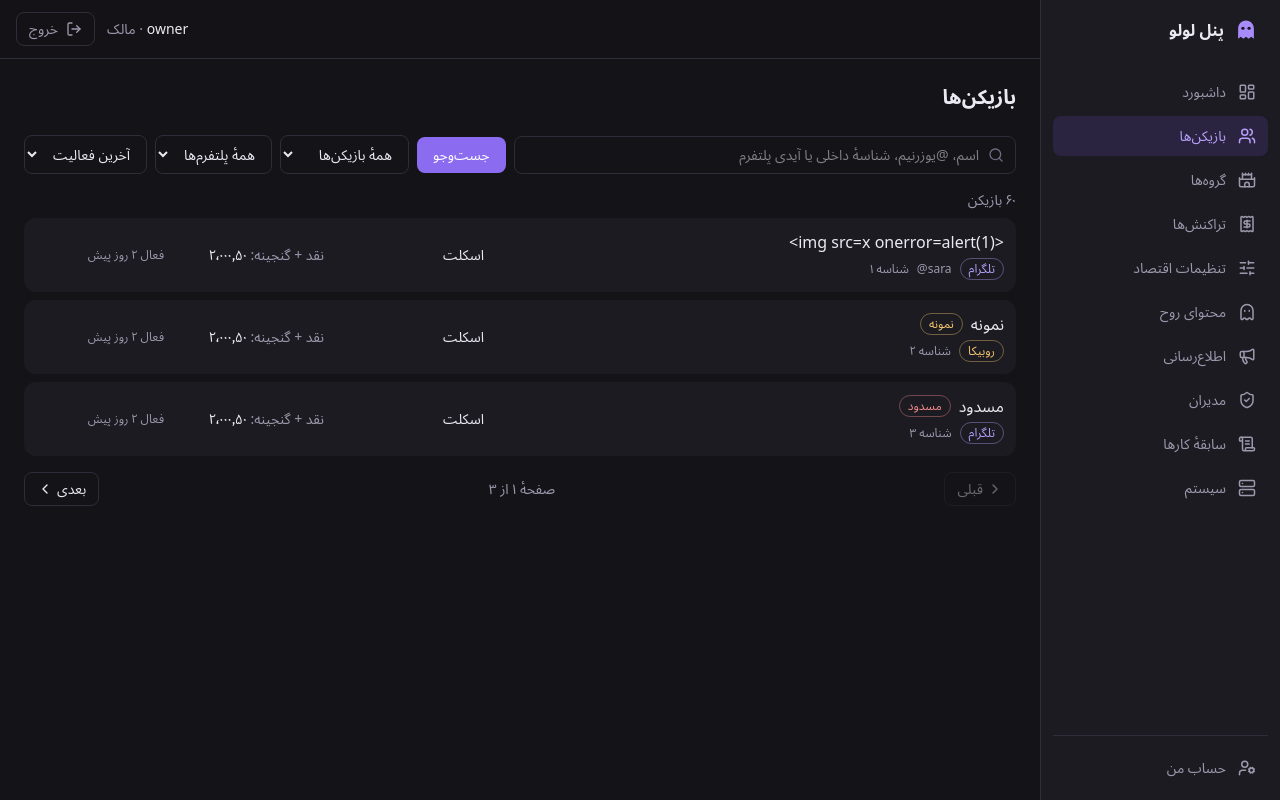
Test: players list › searches from the URL and shows badges, platform and untrusted names as text
Expected: the text "<img src=x onerror=alert(1)>" is shown, [789,230,1004,254]
Expected: the 1st text "نمونه" is shown, [920,313,963,335]
Click the button "بعدی": (62, 489) [24,472,99,506]
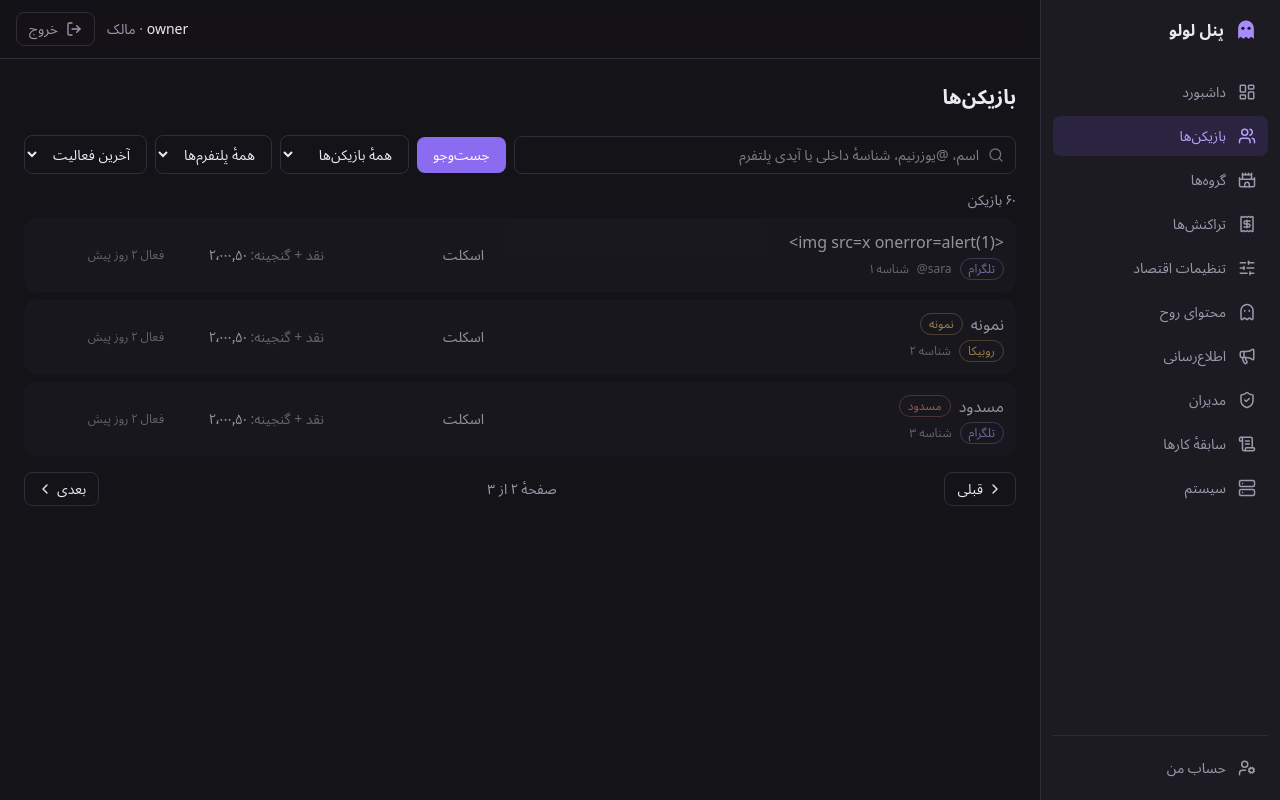
Replace the text in the search field with "sara": (765, 154) [514,136,1016,174]
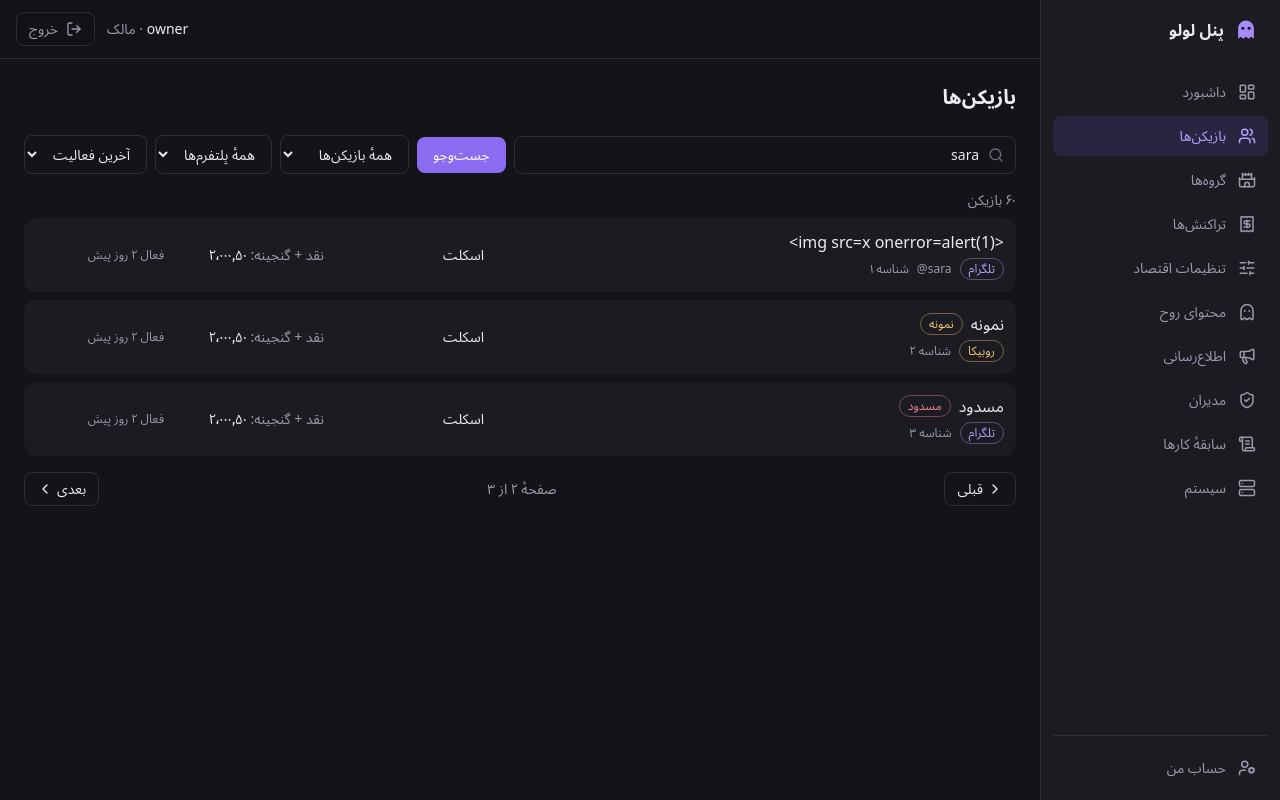
Click the button "جست‌وجو": (461, 154) [417,136,506,172]
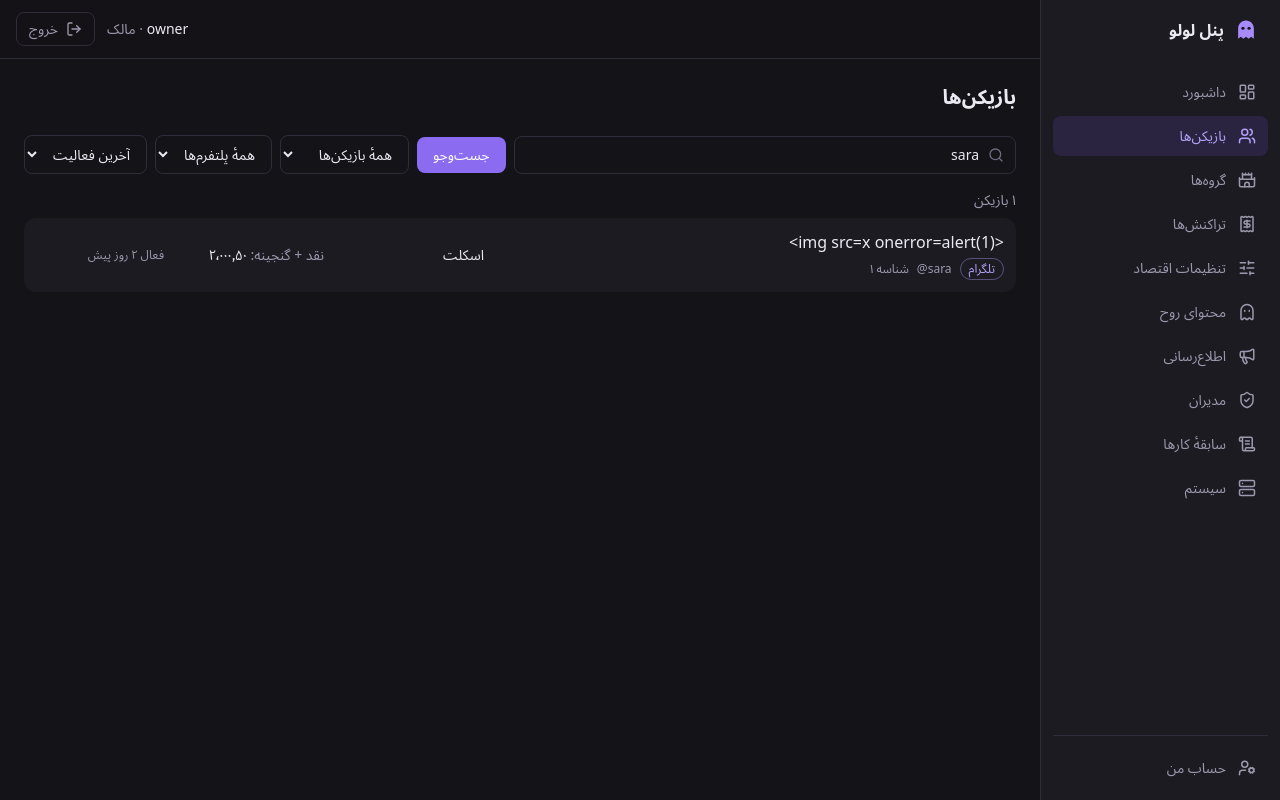
Now the text "۱ بازیکن" is shown, box [974,190,1016,209]
